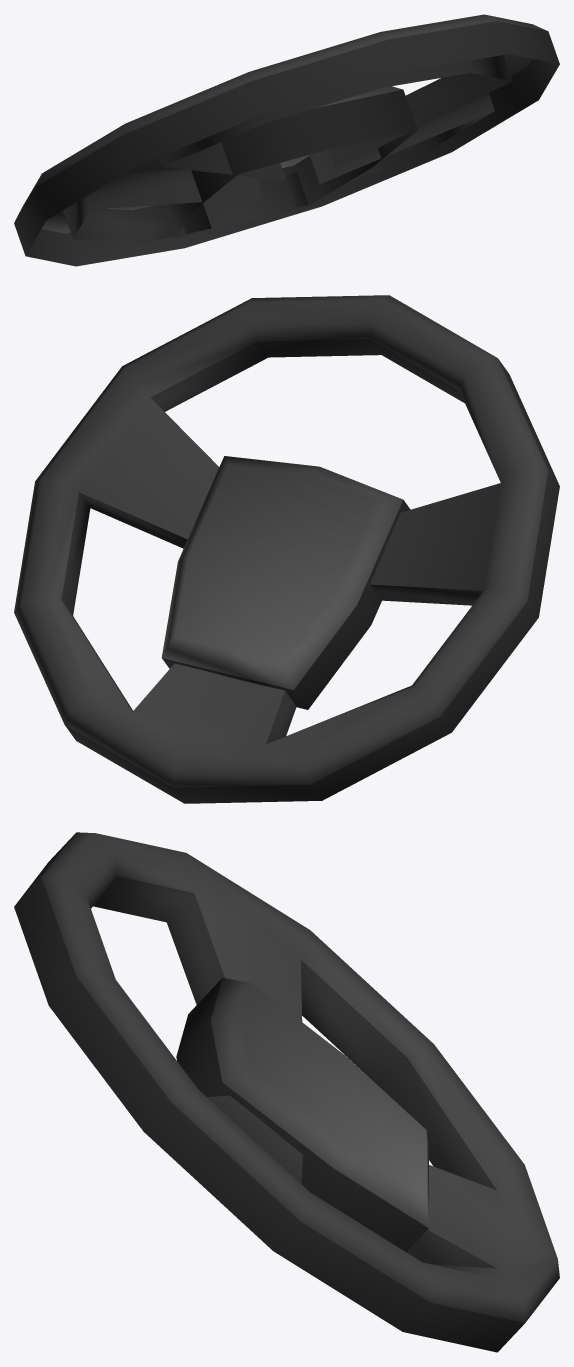
The model's file is bus_wheel_mdl.fbx.
3 renders of one model, top to bottom at view 1: azimuth 30°, elevation 25°; view 2: azimuth 150°, elevation 25°; view 3: azimuth 270°, elevation 25°, orthographic. The views are drawn at different scales.
Parts seen in each view (by area): view 1: bus_wheel; view 2: bus_wheel; view 3: bus_wheel.
Boxes of the visible parts, bbox=[...] form: bus_wheel: bbox=[14, 14, 559, 266]; bus_wheel: bbox=[14, 295, 559, 803]; bus_wheel: bbox=[14, 832, 559, 1352].
Size of the model in its own units: 39.13 by 27.33 by 31.37.
